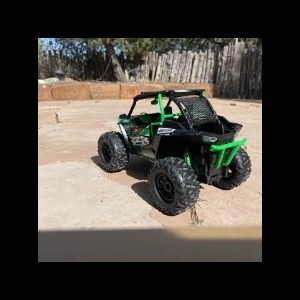polaris: (98, 89, 252, 217)
